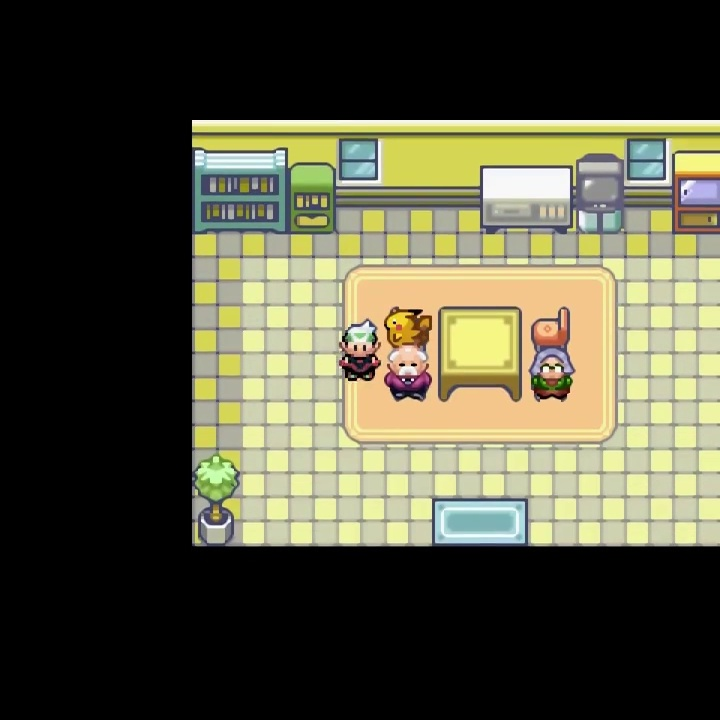agent: (338, 316, 383, 382)
exit: (429, 496, 530, 600)
npc: (383, 342, 433, 405), (528, 347, 575, 405)
